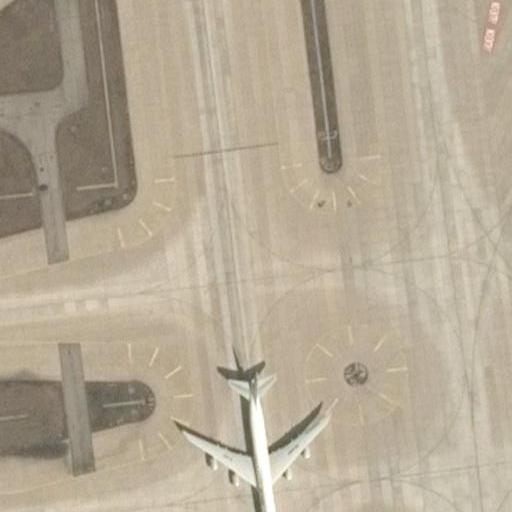Aircraft: (165, 354, 329, 512)
